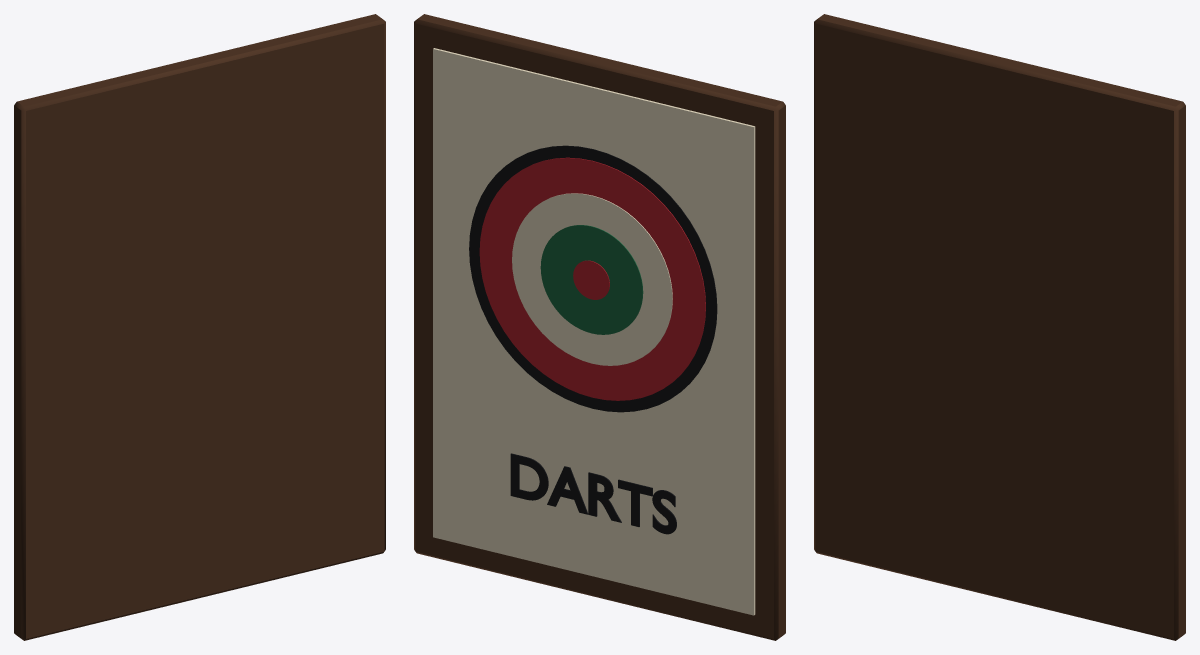
The model's file is PosterFrame.fbx.
3 renders of one model, left to right at view 1: azimuth 30°, elevation 25°; view 2: azimuth 150°, elevation 25°; view 3: azimuth 330°, elevation 25°, orthographic.
Visible parts, largest first — view 1: PosterFrame; view 2: PosterFrame; view 3: PosterFrame.
Boxes of the visible parts, x1,y1,x2,y2 form: PosterFrame: (14, 14, 385, 640); PosterFrame: (414, 14, 785, 640); PosterFrame: (814, 14, 1185, 640).
Bounding box in the file's own units: 0.5 × 0.7 × 0.033.
